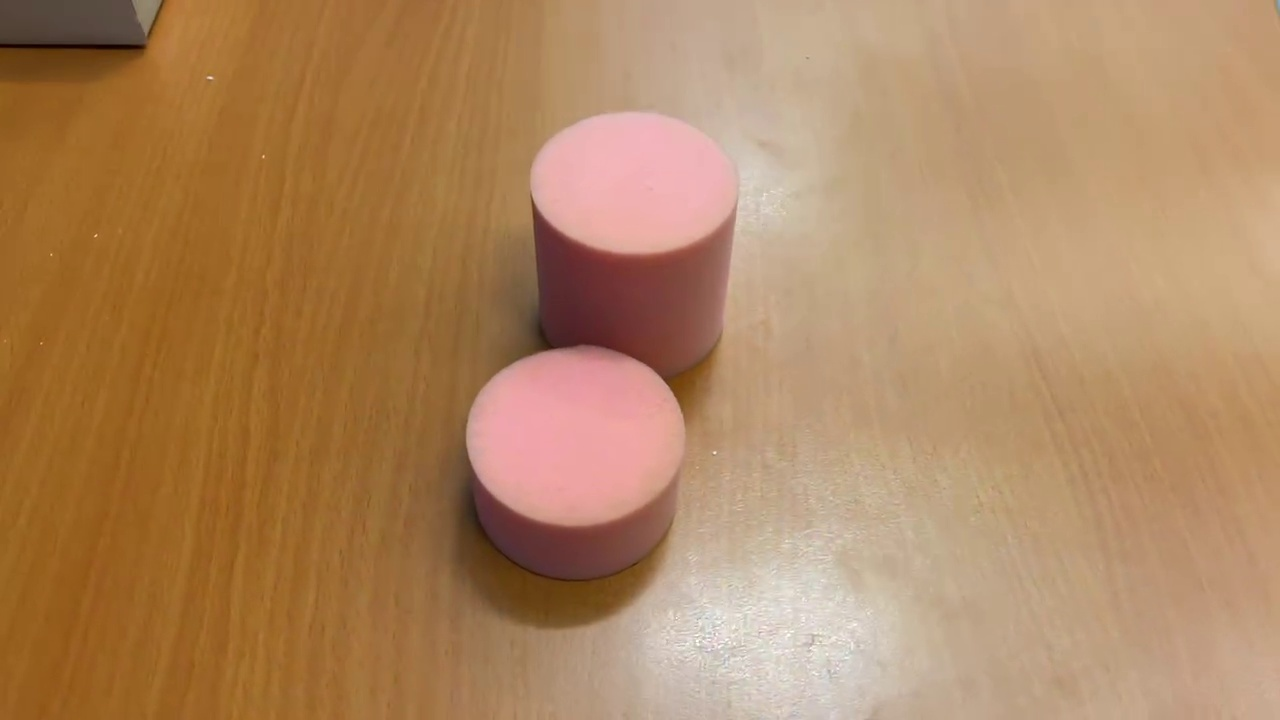Clyinder_short: (456, 343, 692, 586)
Cylinder: (522, 107, 740, 383)
